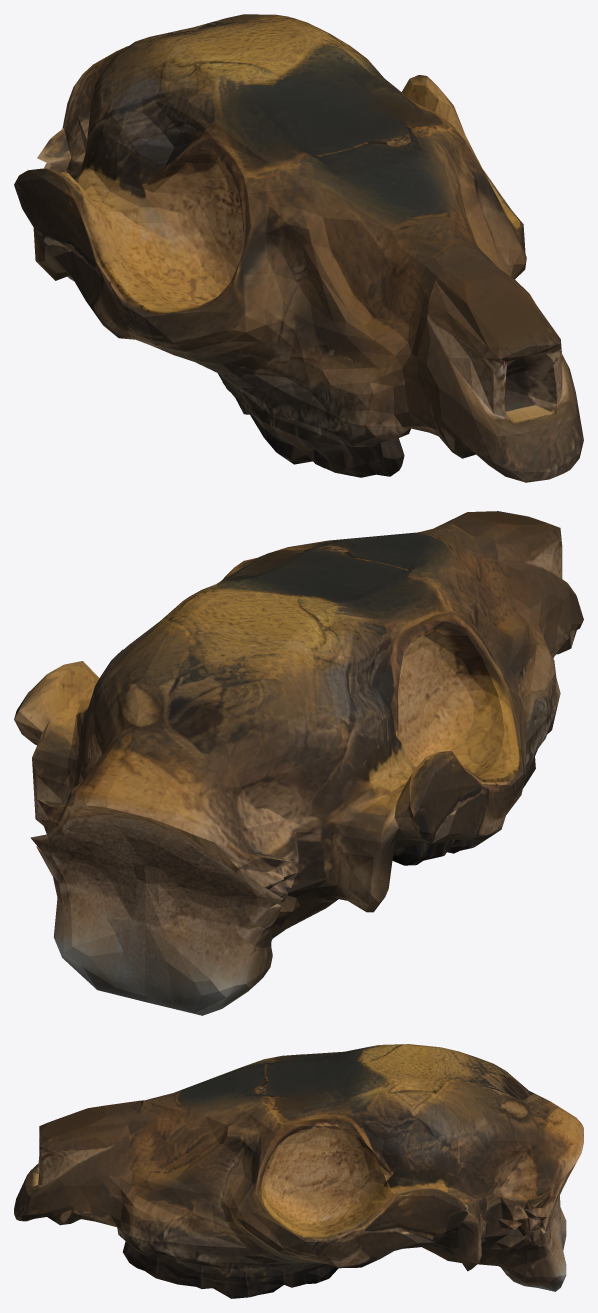
File: horse_fossils_001.glb
3 renders of one model, top to bottom at view 1: azimuth 30°, elevation 25°; view 2: azimuth 150°, elevation 25°; view 3: azimuth 270°, elevation 25°, orthographic. The views are drawn at different scales.
Parts seen in each view (by area): view 1: tripo_node_f9b1add9-b81f-47db-a416-f729c2559d1e; view 2: tripo_node_f9b1add9-b81f-47db-a416-f729c2559d1e; view 3: tripo_node_f9b1add9-b81f-47db-a416-f729c2559d1e.
Boxes of the visible parts, x1,y1,x2,y2 form: tripo_node_f9b1add9-b81f-47db-a416-f729c2559d1e: (14,14,583,482); tripo_node_f9b1add9-b81f-47db-a416-f729c2559d1e: (14,511,583,1015); tripo_node_f9b1add9-b81f-47db-a416-f729c2559d1e: (14,1044,583,1298).
Size of the model in its own units: 0.5252 by 0.3898 by 0.9499.
1 material, 1 textured.
